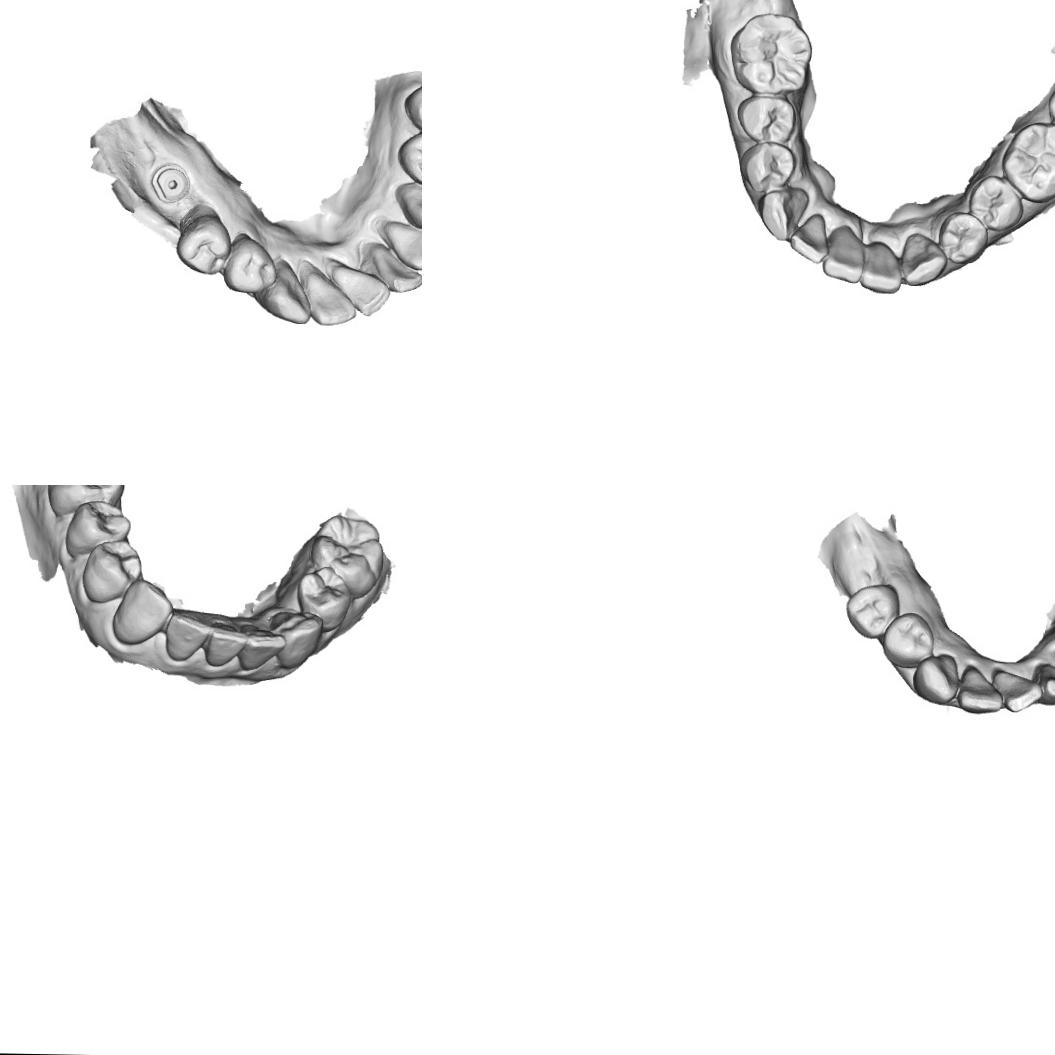canine: (110, 577, 171, 647), (256, 258, 311, 328), (756, 185, 811, 244), (272, 606, 321, 670), (898, 230, 946, 288), (911, 654, 959, 704), (392, 180, 422, 232)
implant: (148, 164, 194, 206)
incisor: (331, 265, 391, 318), (307, 274, 358, 328), (822, 222, 865, 284), (372, 245, 422, 298), (956, 662, 1003, 717), (238, 620, 286, 673), (161, 611, 208, 664), (860, 237, 902, 296), (992, 663, 1041, 713), (786, 212, 830, 264), (202, 619, 242, 667), (383, 223, 422, 271), (1039, 666, 1055, 708)
molar: (728, 10, 814, 97), (309, 512, 385, 600), (999, 119, 1055, 205), (44, 485, 124, 511)
premolar: (77, 536, 141, 604), (294, 564, 352, 629), (220, 238, 278, 297), (967, 173, 1025, 232), (173, 216, 228, 278), (844, 582, 900, 640), (879, 611, 937, 667), (64, 501, 128, 551), (738, 142, 797, 195), (736, 95, 798, 144), (936, 210, 989, 265), (397, 131, 422, 187), (403, 82, 422, 136)
